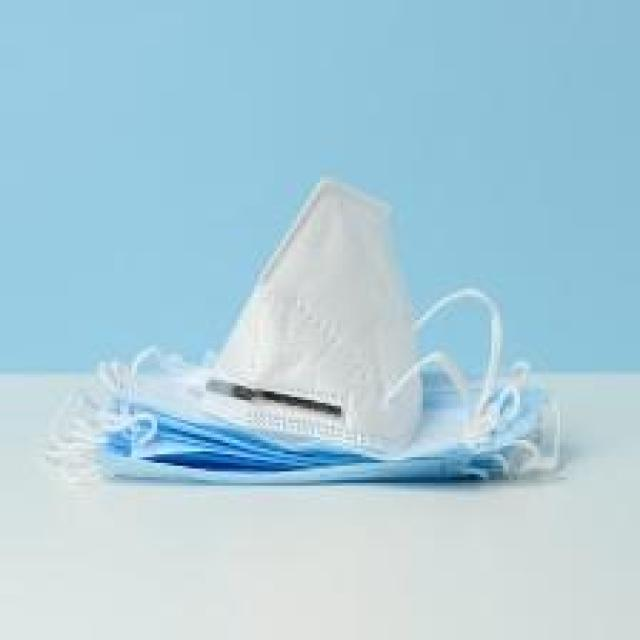Mask: (58, 336, 602, 493), (200, 205, 483, 465)
